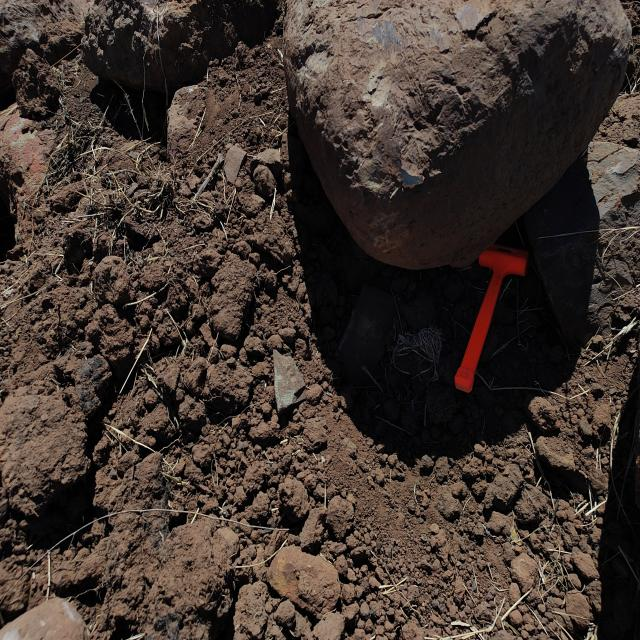Orange_hammer: (454, 243, 528, 394)
